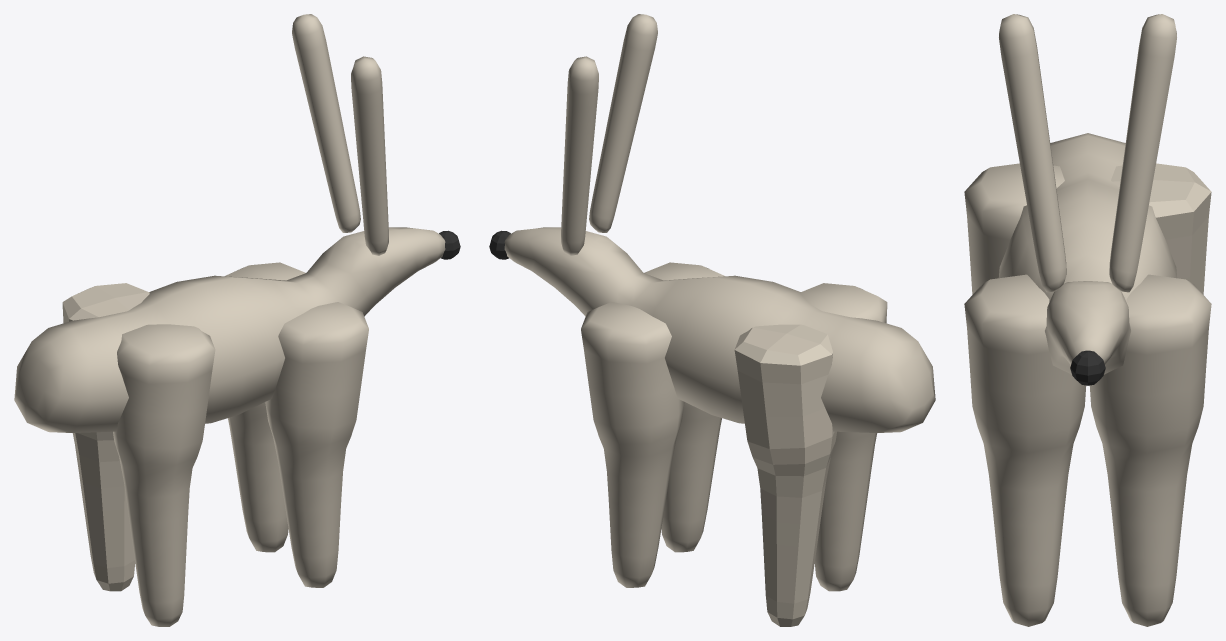
The model's file is hare.glb.
3 views of the same model, side by side, from view 1: azimuth 30°, elevation 25°; view 2: azimuth 150°, elevation 25°; view 3: azimuth 270°, elevation 25° (orthographic). The views are drawn at different scales.
Parts seen in each view (by area): view 1: Hare, Leg2, Leg0, Leg3, Leg1; view 2: Hare, Leg3, Leg1, Leg2, Leg0; view 3: Hare, Leg1, Leg0, Leg2, Leg3, Nose.
Part boxes in pixels (x1,y1,x2,y2): Hare: [14, 14, 445, 432]; Leg2: [113, 324, 215, 626]; Leg0: [265, 302, 368, 587]; Leg3: [62, 283, 149, 591]; Leg1: [225, 262, 305, 552]; Hare: [504, 14, 935, 432]; Leg3: [734, 324, 836, 626]; Leg1: [581, 302, 684, 587]; Leg2: [800, 283, 887, 591]; Leg0: [644, 262, 724, 552]; Hare: [998, 14, 1177, 374]; Leg1: [1089, 274, 1211, 626]; Leg0: [964, 274, 1086, 626]; Leg2: [964, 163, 1064, 294]; Leg3: [1111, 163, 1211, 294]; Nose: [1070, 350, 1105, 385].
Bounding box in the file's own units: 1.05 × 1.21 × 0.4246.
